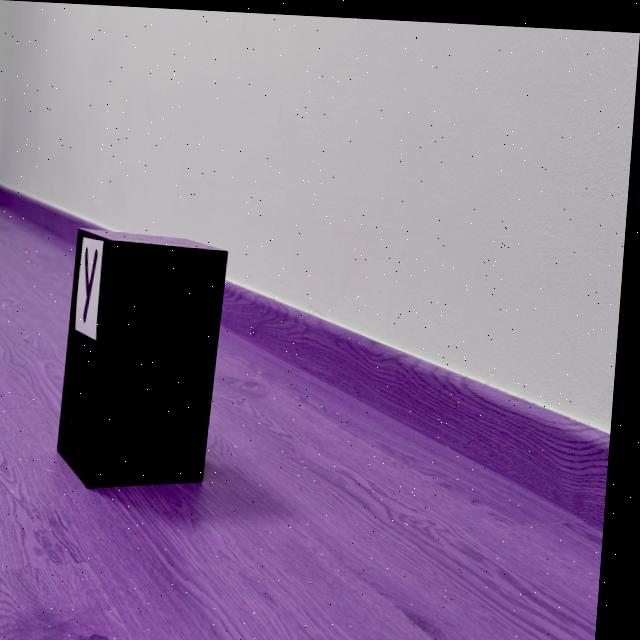Y: (88, 246, 102, 321)
